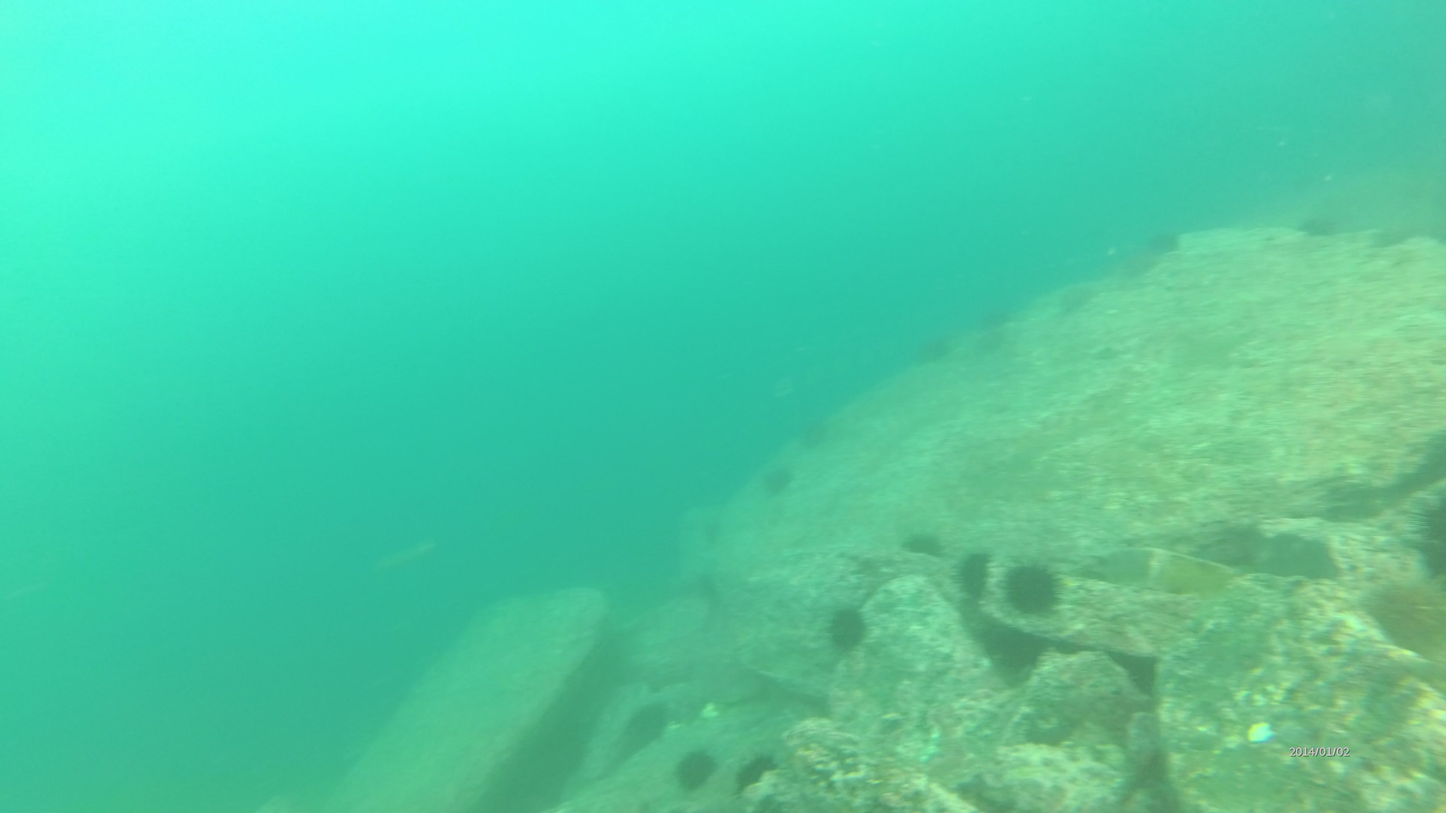starfish: (1371, 575, 1446, 655), (998, 555, 1069, 613), (950, 547, 1001, 602), (621, 701, 670, 756), (823, 604, 872, 656), (672, 745, 721, 794), (738, 750, 782, 797), (1378, 212, 1425, 252), (900, 525, 947, 562), (916, 329, 959, 366), (1056, 279, 1094, 318), (1296, 210, 1342, 237), (761, 466, 794, 502), (1143, 230, 1185, 258), (982, 298, 1014, 330), (802, 410, 828, 445)
